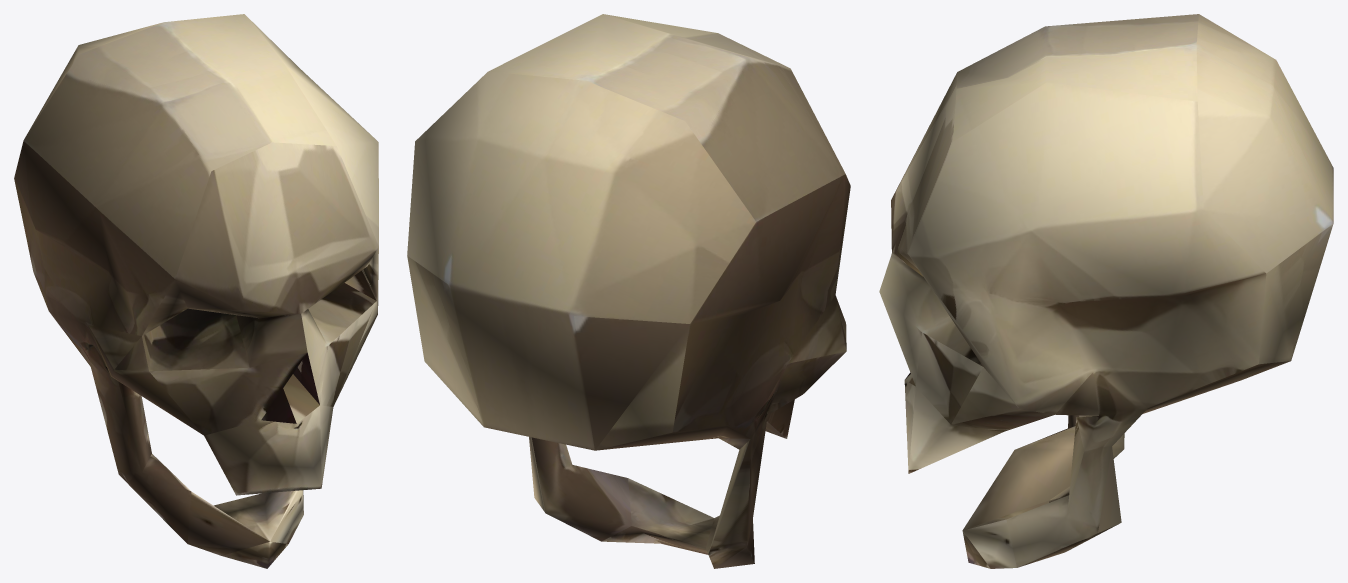
Rendered from Skull.fbx.
3 views of the same model, side by side, from view 1: azimuth 30°, elevation 25°; view 2: azimuth 150°, elevation 25°; view 3: azimuth 270°, elevation 25° (orthographic). The views are drawn at different scales.
Parts seen in each view (by area): view 1: Mesh_0; view 2: Mesh_0; view 3: Mesh_0.
Part boxes in pixels (x1=…): Mesh_0: x1=14, y1=14, x2=378, y2=568; Mesh_0: x1=407, y1=14, x2=850, y2=568; Mesh_0: x1=879, y1=14, x2=1333, y2=568.
Bounding box in the file's own units: 128 × 199 × 159.
Materials: 1 (1 with a texture image).
